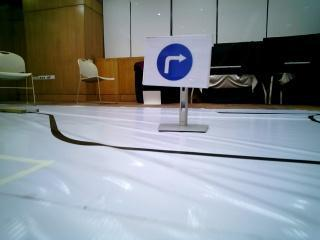right: (145, 36, 200, 85)
